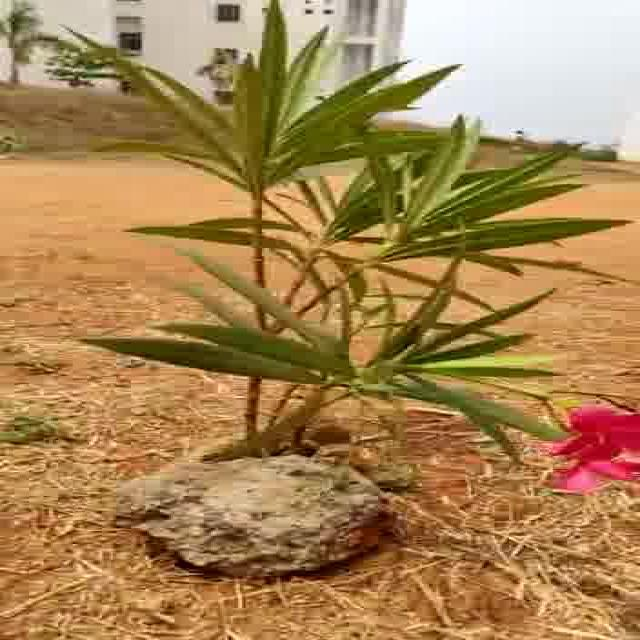Oleander: (79, 45, 640, 453)
